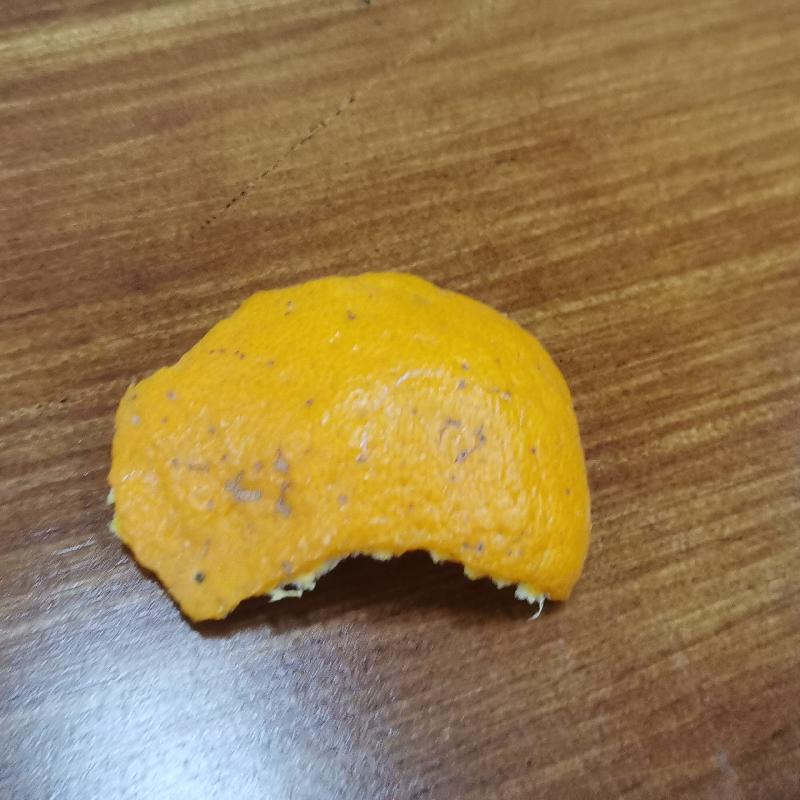orange: (105, 265, 592, 626)
